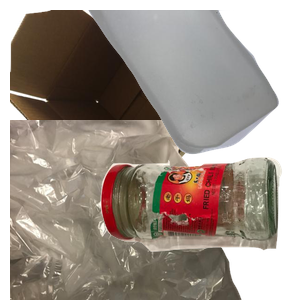cardboard: (10, 10, 218, 190)
glass: (98, 155, 300, 300)
plastic: (84, 10, 300, 157)
trash: (10, 120, 244, 300)
